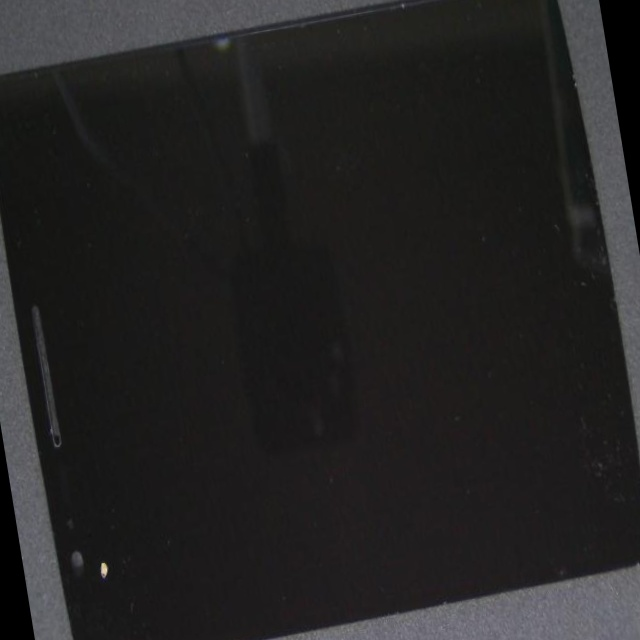stain: (11, 291, 140, 640)
